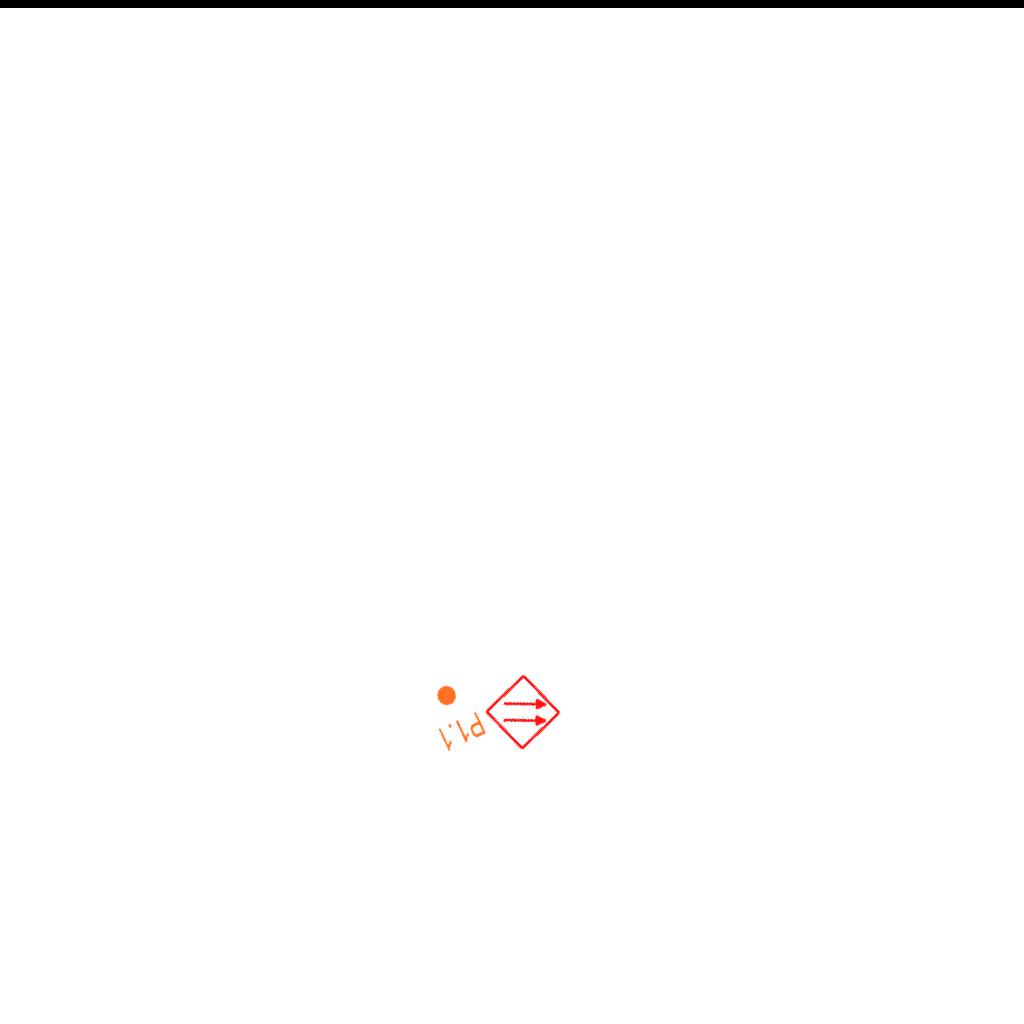Downlight_LED_Einbauleuchten_Flur: (419, 676, 489, 754)
RMO_Rauchmelder_optischer: (483, 672, 563, 752)
